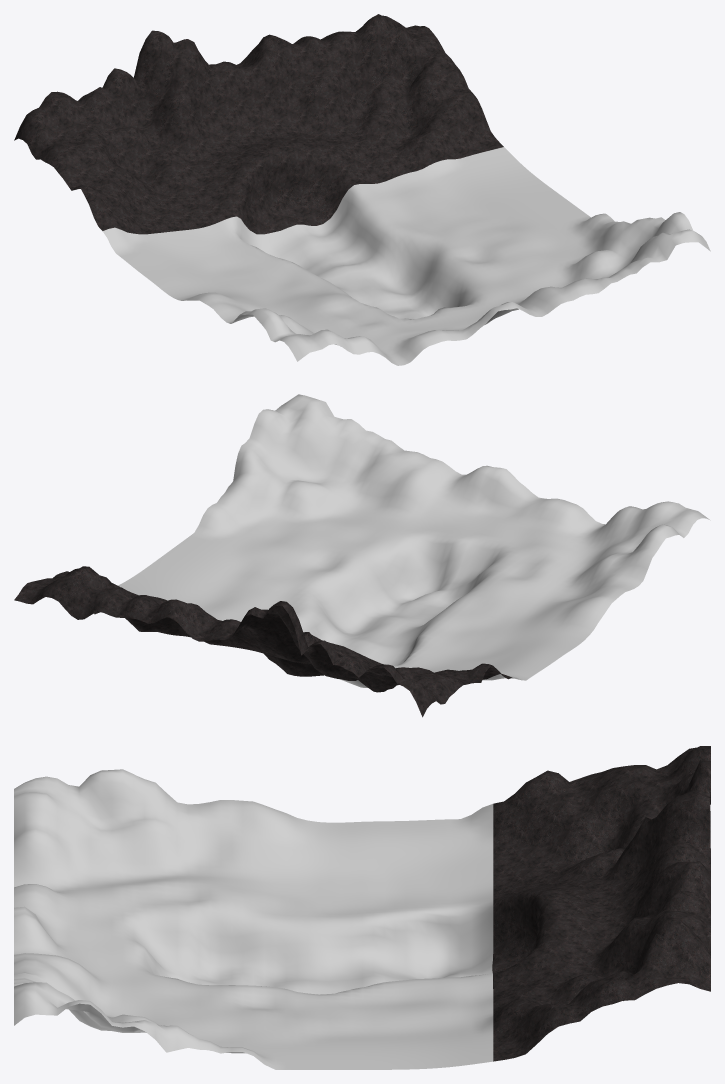
The model's file is maa ja kallio.fbx.
The picture shows the model from 3 angles, top to bottom: view 1: azimuth 30°, elevation 25°; view 2: azimuth 150°, elevation 25°; view 3: azimuth 270°, elevation 25°; orthographic projection. The views are drawn at different scales.
Parts seen in each view (by area): view 1: polySurface2, polySurface1; view 2: polySurface1, polySurface2; view 3: polySurface1, polySurface2.
Boxes of the visible parts, x1,y1,x2,y2 form: polySurface2: [14, 14, 503, 234]; polySurface1: [102, 147, 710, 365]; polySurface1: [118, 394, 710, 687]; polySurface2: [14, 566, 512, 717]; polySurface1: [14, 769, 493, 1069]; polySurface2: [492, 746, 710, 1061].
Size of the model in its own units: 9269 by 3555 by 11000.
